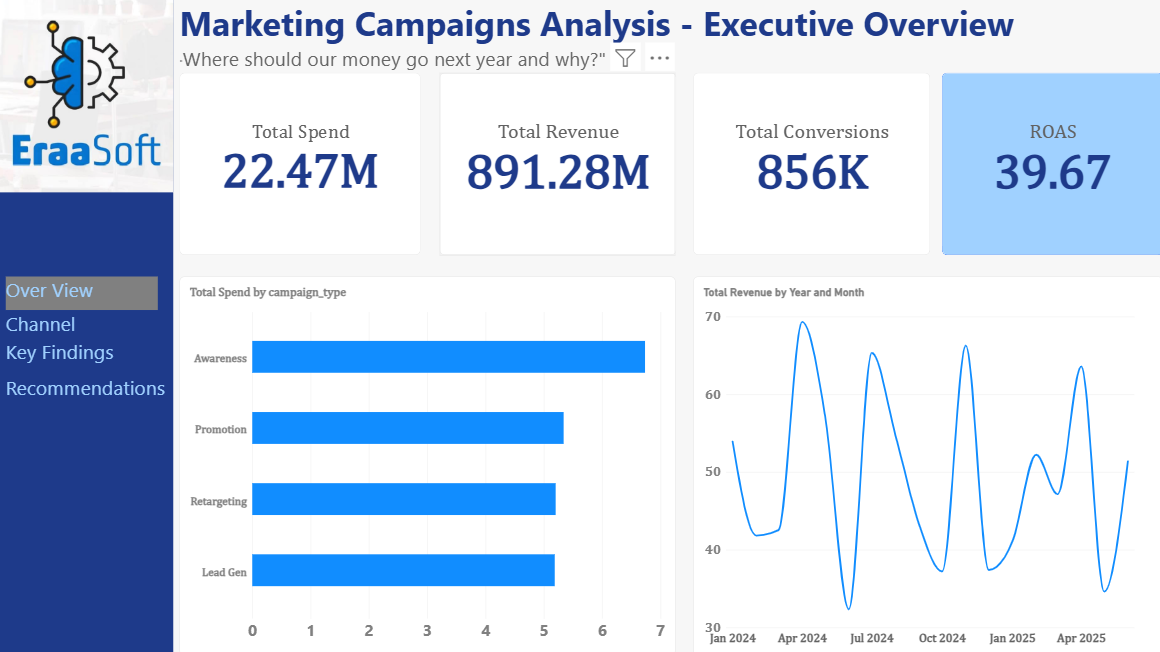

The page's visual inventory and layout, read from the dashboard file:
{"tool":"powerbi","page":{"name":"OverView","canvas":[1920,1080],"ordinal":0},"visuals":[{"type":"shape","box":[0,0,290.2,1080.6],"z":0},{"type":"image","box":[0,0,290.8,318.6],"z":1000},{"type":"textbox","box":[301.5,0,1618.5,121.9],"z":2000},{"type":"cardVisual","fields":{"Data":["marketing-campaigns.Total Spend"]},"box":[300.5,121.4,397.3,300.5],"z":3000},{"type":"cardVisual","fields":{"Data":["marketing-campaigns.Total Revenue"]},"box":[728.6,121.4,390,300.5],"z":4000},{"type":"cardVisual","fields":{"Data":["marketing-campaigns.Total Conversions"]},"box":[1146.5,121.4,390,300.5],"z":5000},{"type":"cardVisual","fields":{"Data":["marketing-campaigns.ROAS"]},"box":[1556.1,121.4,364,300.5],"z":6000},{"type":"clusteredBarChart","fields":{"Category":["marketing-campaigns.campaign_type"],"Y":["marketing-campaigns.Total Spend"]},"box":[300.5,456.9,817.2,623.7],"z":7000},{"type":"lineChart","fields":{"Category":["marketing-campaigns.launch_date.Variation.Date Hierarchy.Year","marketing-campaigns.launch_date.Variation.Date Hierarchy.Month"],"Y":["marketing-campaigns.Total Revenue"]},"box":[1146.5,456.9,773.9,623.7],"z":8000},{"type":"textbox","box":[15,457.6,250.2,55.6],"z":9000},{"type":"textbox","box":[15,513.1,186,44.9],"z":10000},{"type":"textbox","box":[15,558,250.2,59.9],"z":11000},{"type":"textbox","box":[15,617.9,275.8,72.7],"z":12000},{"type":"actionButton","box":[14.4,512.5,131.7,43.2],"z":12001},{"type":"actionButton","box":[14.4,557.8,185.2,45.3],"z":12002},{"type":"actionButton","box":[14.4,617.5,275.8,55.6],"z":12004}]}

Visuals, with their boxes in screenshot pixels (x1, y1, x2, y2), scaled from the page's 1920x1080 canvas onto the 1160x652 screenshot:
shape: region(0, 0, 175, 651)
image: region(0, 0, 176, 192)
textbox: region(182, 0, 1159, 74)
cardVisual - marketing-campaigns.Total Spend: region(182, 73, 422, 255)
cardVisual - marketing-campaigns.Total Revenue: region(440, 73, 676, 255)
cardVisual - marketing-campaigns.Total Conversions: region(693, 73, 928, 255)
cardVisual - marketing-campaigns.ROAS: region(940, 73, 1159, 255)
clusteredBarChart - marketing-campaigns.campaign_type x marketing-campaigns.Total Spend: region(182, 276, 675, 651)
lineChart - marketing-campaigns.launch_date.Variation.Date Hierarchy.Year x marketing-campaigns.launch_date.Variation.Date Hierarchy.Month: region(693, 276, 1159, 651)
textbox: region(9, 276, 160, 310)
textbox: region(9, 310, 121, 337)
textbox: region(9, 337, 160, 373)
textbox: region(9, 373, 176, 417)
actionButton: region(9, 309, 88, 335)
actionButton: region(9, 337, 121, 364)
actionButton: region(9, 373, 175, 406)
